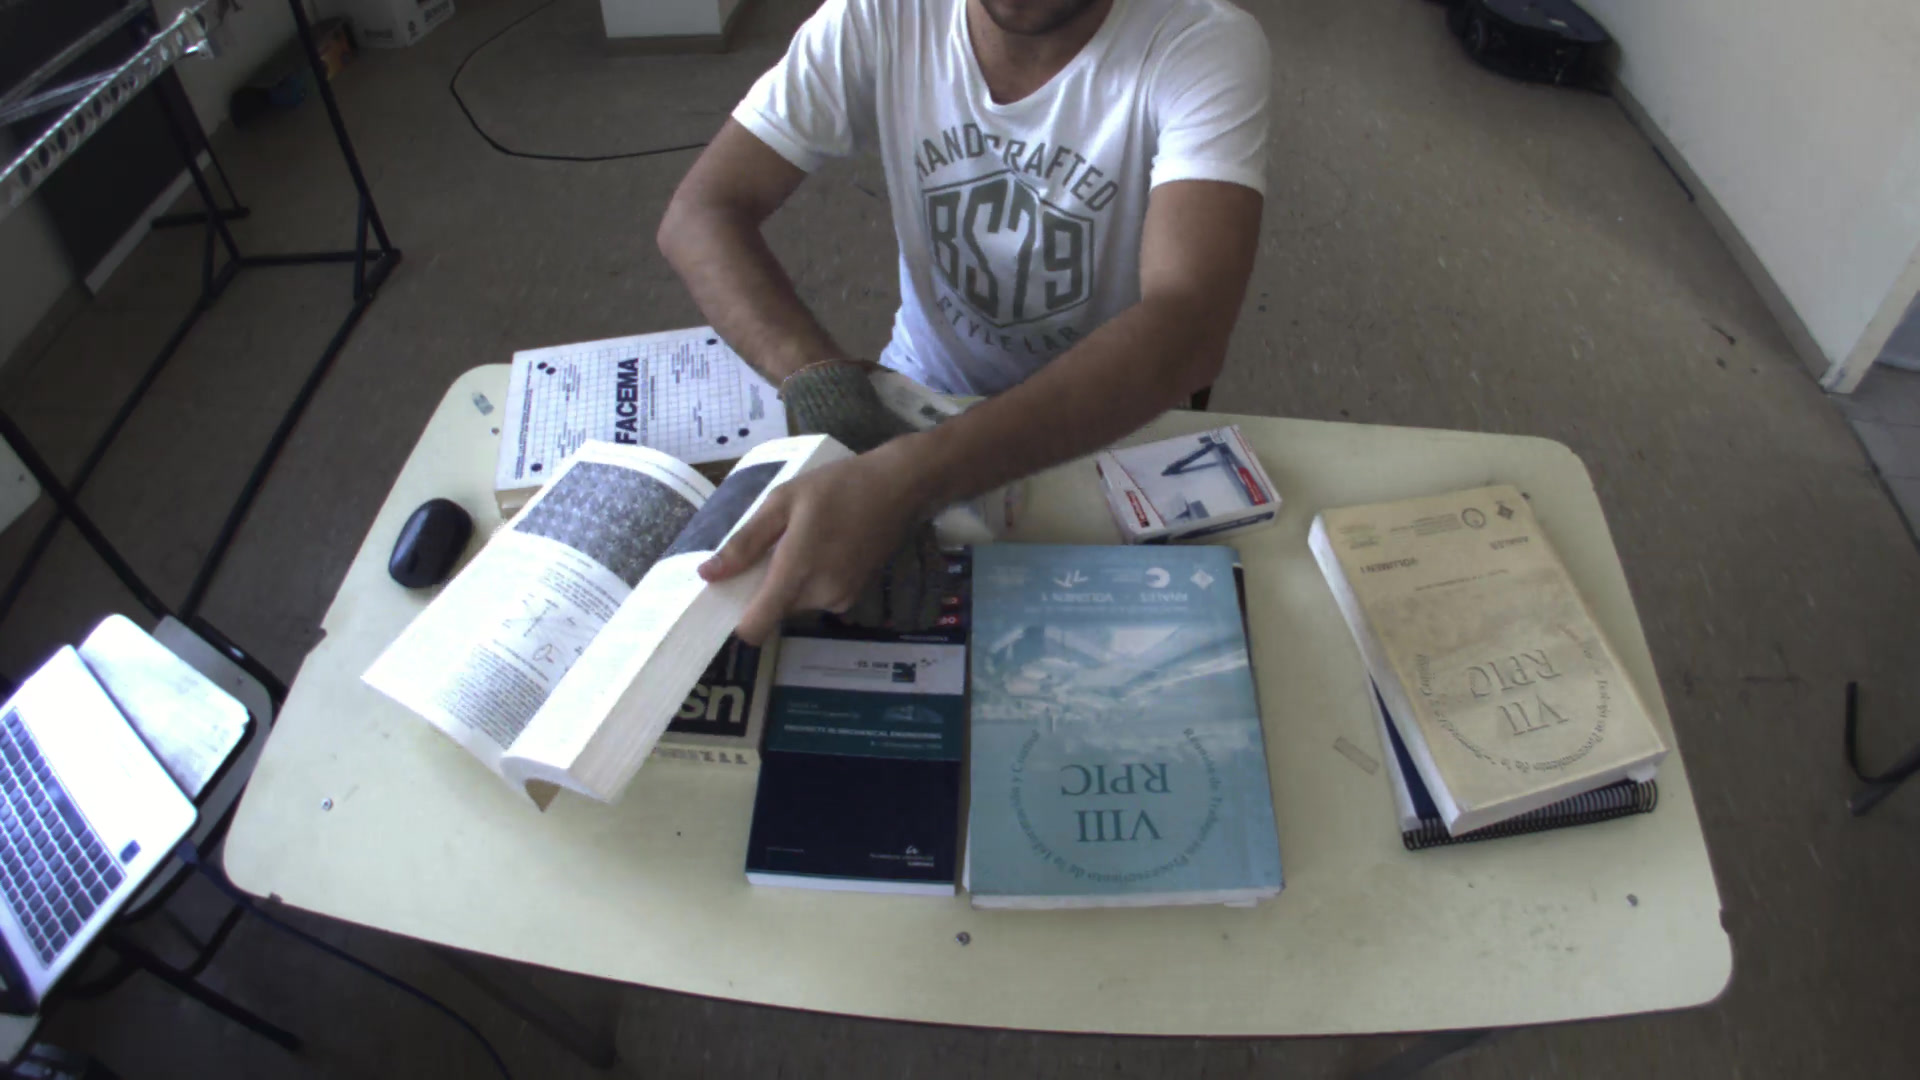hand: (690, 448, 895, 655)
